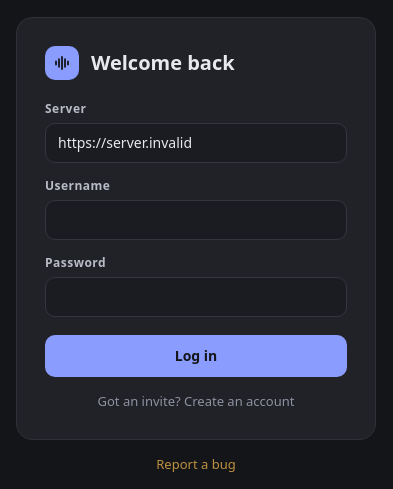
Test: Login › a wrong code shows the error and keeps the code step
Type "alex" into the field labelled "Username" at (196, 220), box [45,200,347,240]
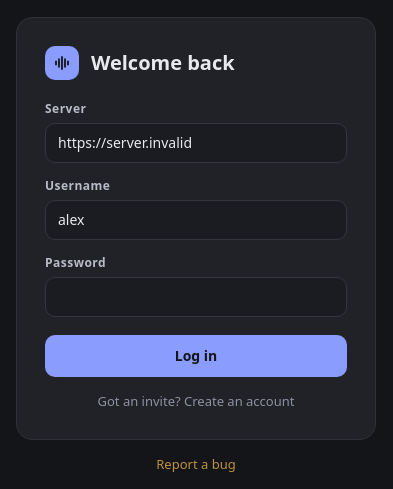
Type "pw-for-alex" into the password field labelled "Password" at (196, 296), box [45,276,347,316]
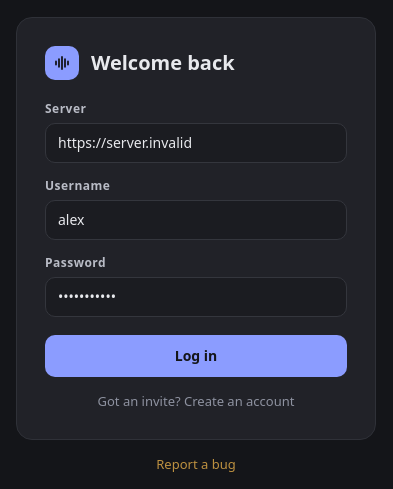
Submit the form
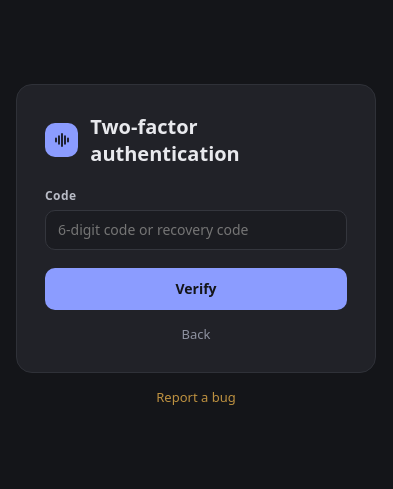
Type "000000" into the field labelled "Code" at (196, 230), box [45,210,347,250]
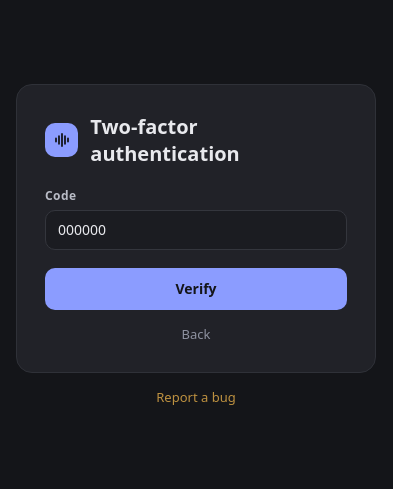
Submit the form, box [16,84,376,372]
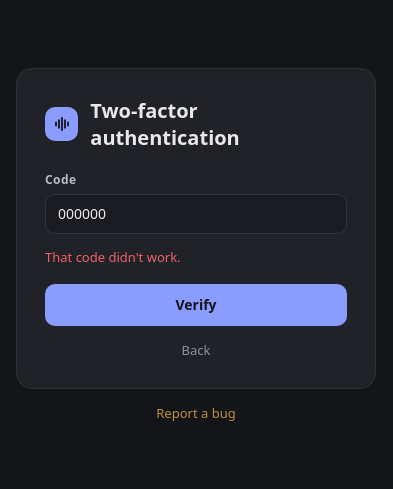
expect the number of fields is 1: met, box [45,194,347,234]
expect the message "That code didn't work." is shown: met, box [45,248,181,266]
